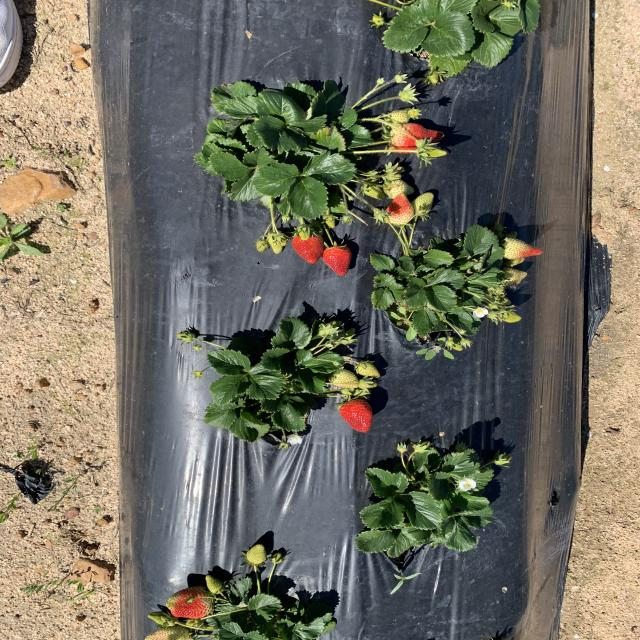unripe: (388, 122, 444, 150), (166, 587, 214, 618), (337, 398, 375, 432), (292, 229, 323, 265), (323, 246, 354, 277)
